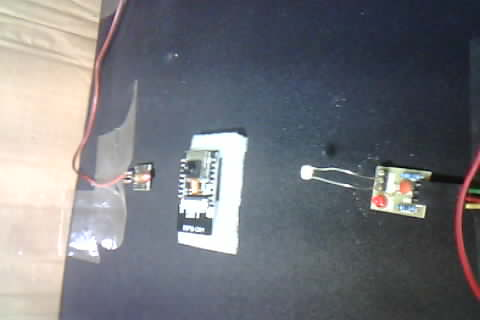esp32: (174, 131, 251, 257)
